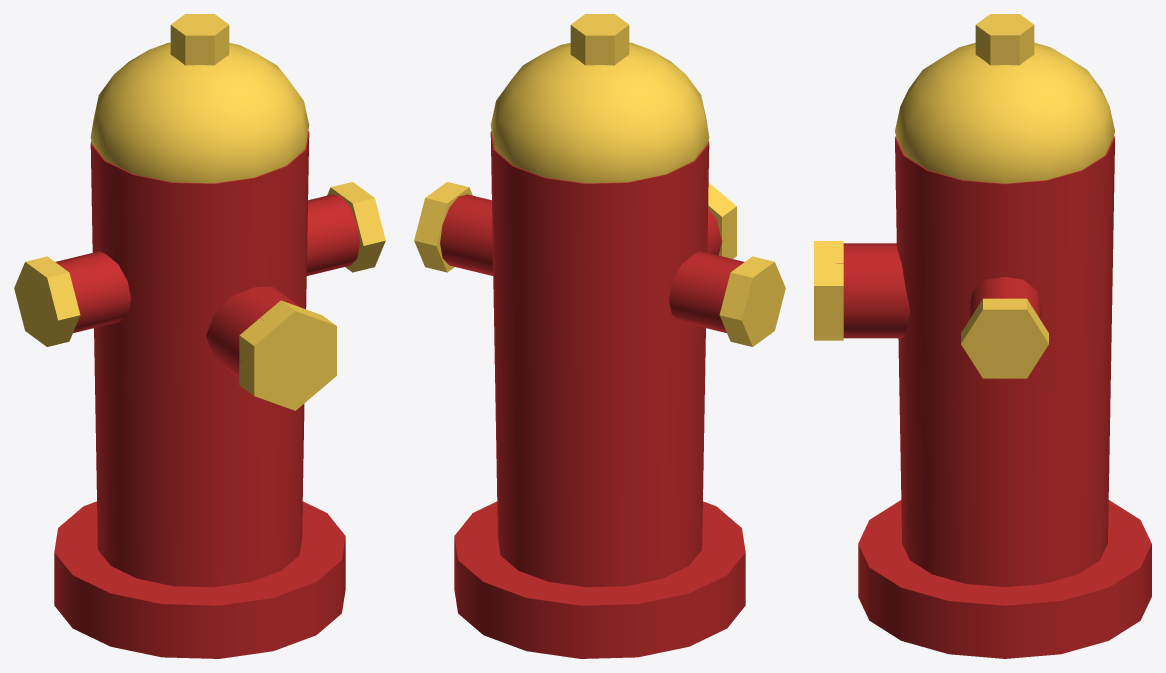
File: parking_hydrant.glb
3 renders of one model, left to right at view 1: azimuth 30°, elevation 25°; view 2: azimuth 150°, elevation 25°; view 3: azimuth 270°, elevation 25°, orthographic.
Parts seen in each view (by area): view 1: Hydrant; view 2: Hydrant; view 3: Hydrant.
Part boxes in pixels (x1,y1,x2,y2): Hydrant: (14,14,385,658); Hydrant: (414,14,785,658); Hydrant: (814,14,1151,658).
Size of the model in its own units: 0.515 by 0.86 by 0.46.
